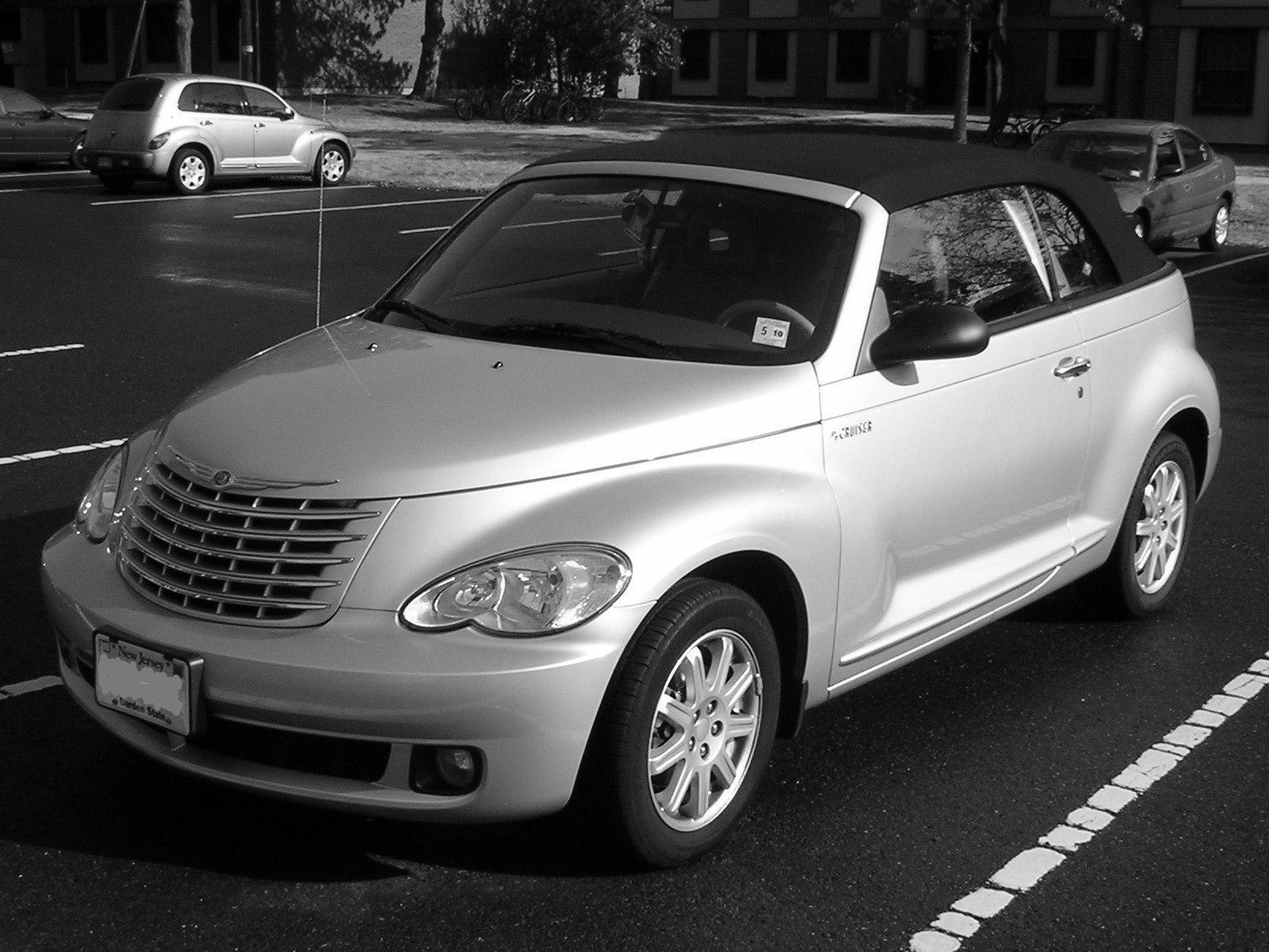car: (29, 91, 1238, 869)
